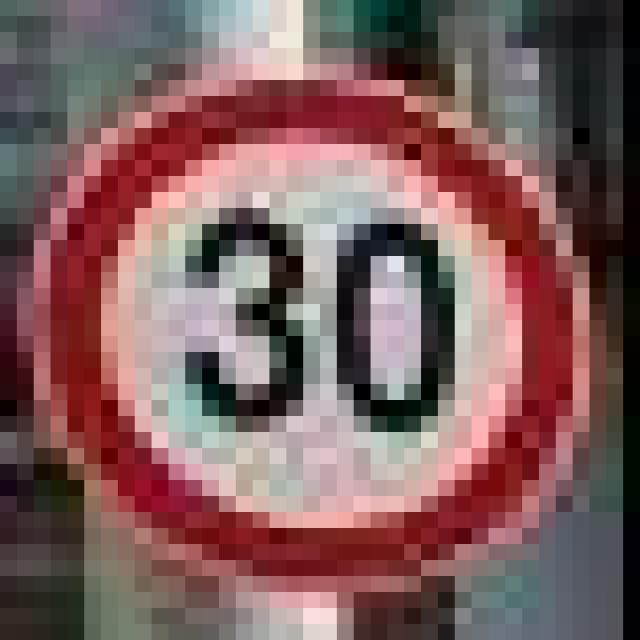traffic_sign: (17, 48, 556, 576)
